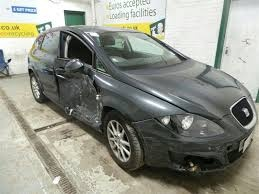Broken-glass: (60, 33, 100, 68)
Dent: (58, 72, 99, 121)
